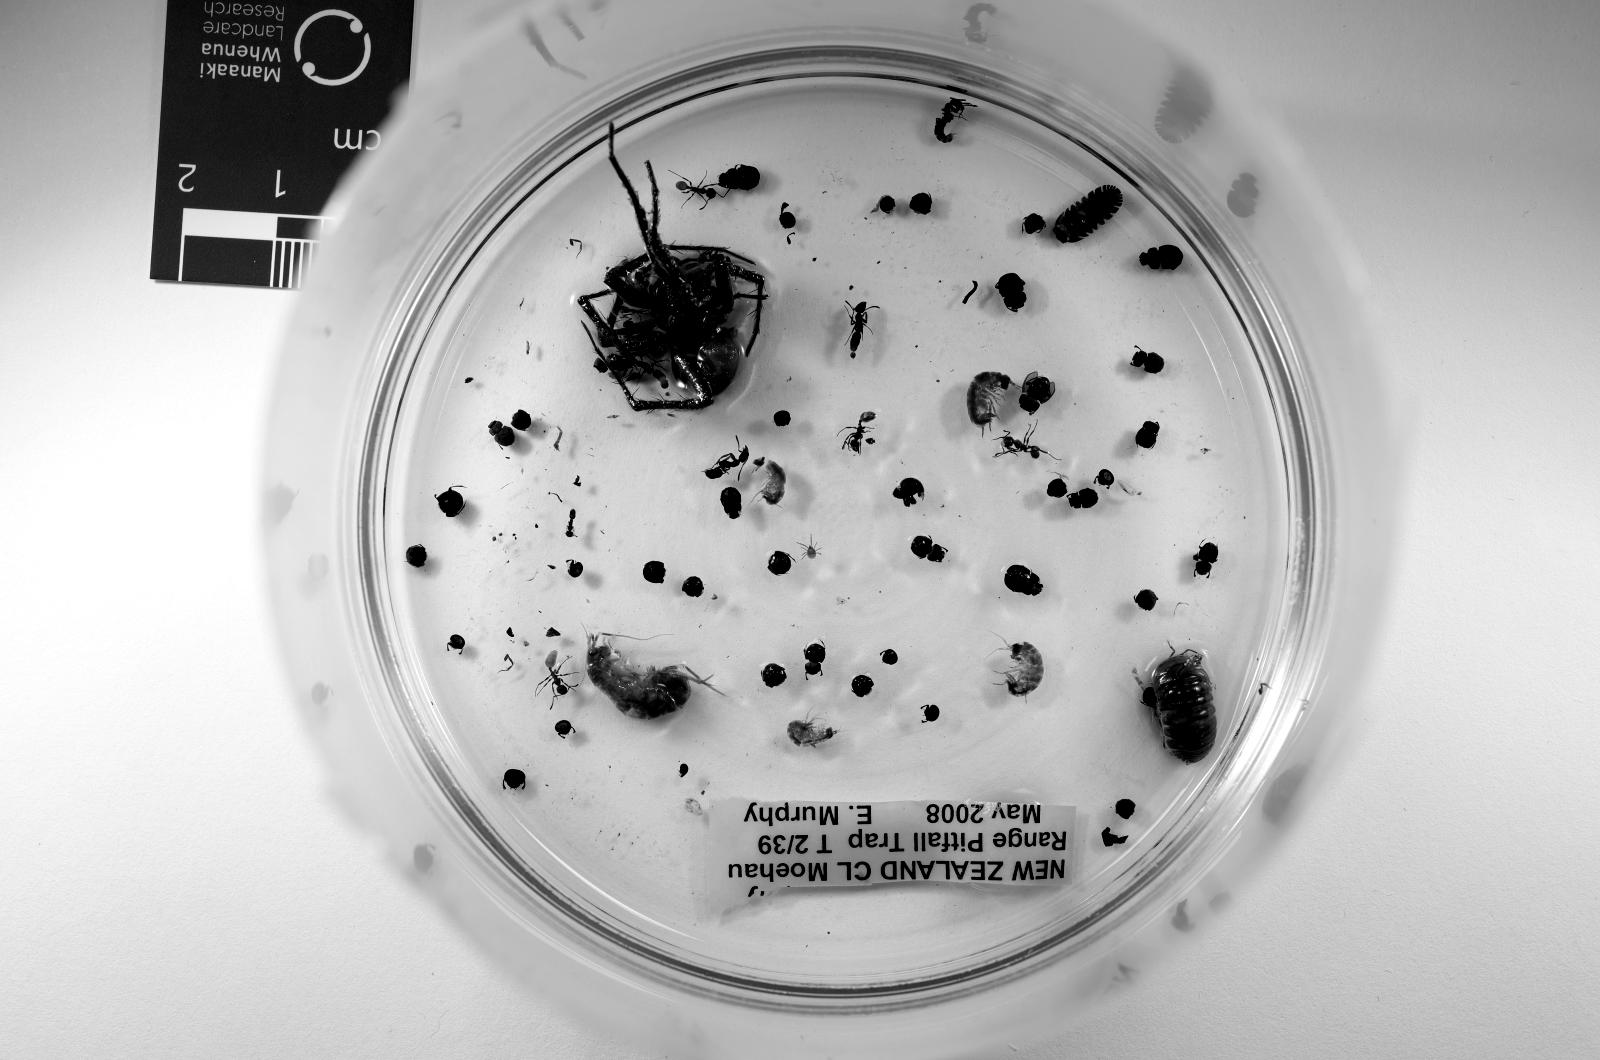acari: (799, 535, 818, 558)
amphipoda: (588, 634, 713, 720), (966, 373, 1012, 432), (1003, 642, 1044, 696), (788, 717, 837, 749), (759, 459, 784, 506)
araneae: (578, 128, 765, 409)
coleoptera: (1018, 373, 1056, 413), (1003, 565, 1044, 596), (997, 273, 1028, 310), (1141, 245, 1185, 270), (719, 164, 759, 189), (909, 537, 947, 562), (894, 478, 925, 506), (1132, 348, 1166, 373), (1193, 543, 1219, 575), (1134, 419, 1159, 451), (803, 642, 825, 677), (491, 419, 516, 447), (719, 487, 740, 518), (1069, 487, 1097, 509), (1088, 187, 1122, 202), (1056, 220, 1078, 243), (1025, 214, 1044, 233), (1069, 214, 1088, 230)
formicidae: (538, 649, 578, 699), (997, 426, 1047, 459), (704, 444, 750, 478), (934, 99, 969, 143), (843, 413, 875, 453), (847, 302, 869, 357), (675, 180, 719, 205), (565, 509, 575, 537)
isopoda: (1149, 649, 1216, 764), (1054, 183, 1122, 243)
